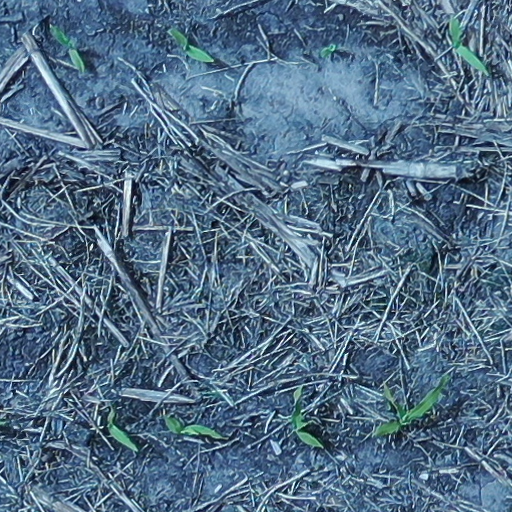planta: (373, 375, 449, 435), (450, 16, 488, 74), (291, 386, 323, 447), (164, 414, 227, 439), (52, 27, 85, 72), (169, 29, 214, 62), (108, 408, 138, 452)
